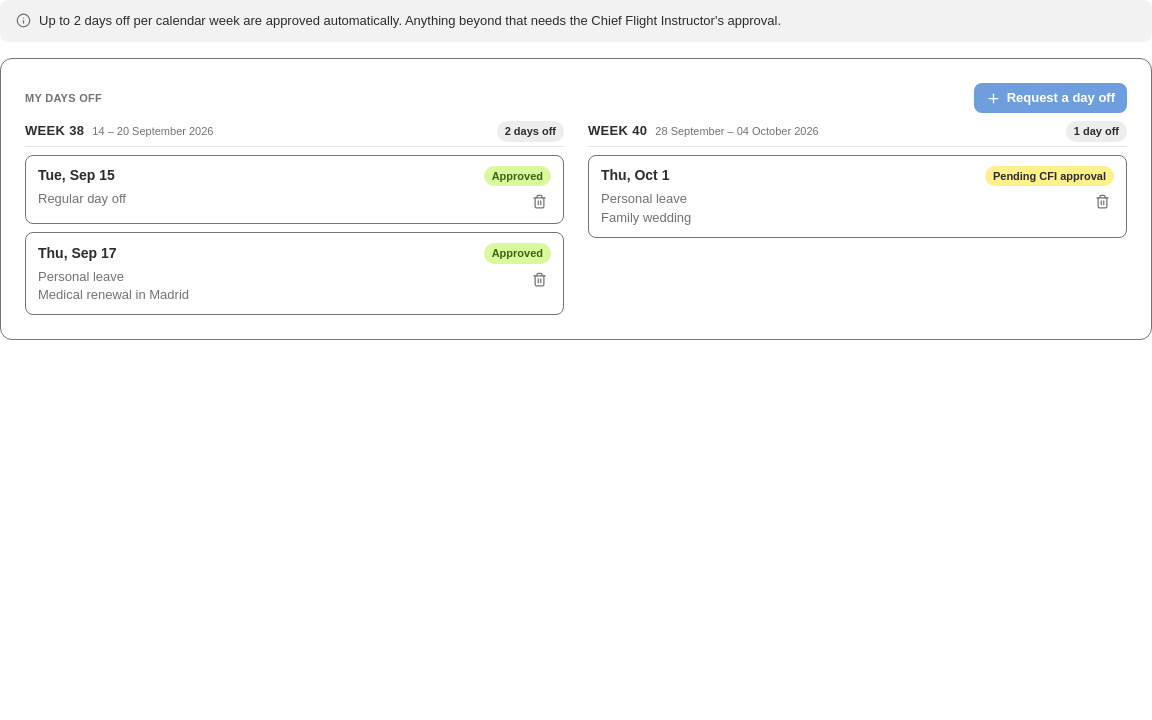
InstructorAvailability › shows an error toast when a cancel request fails
Step 1. Click the button named "Cancel day off on" → click(540, 202), box [528,190,551,213]
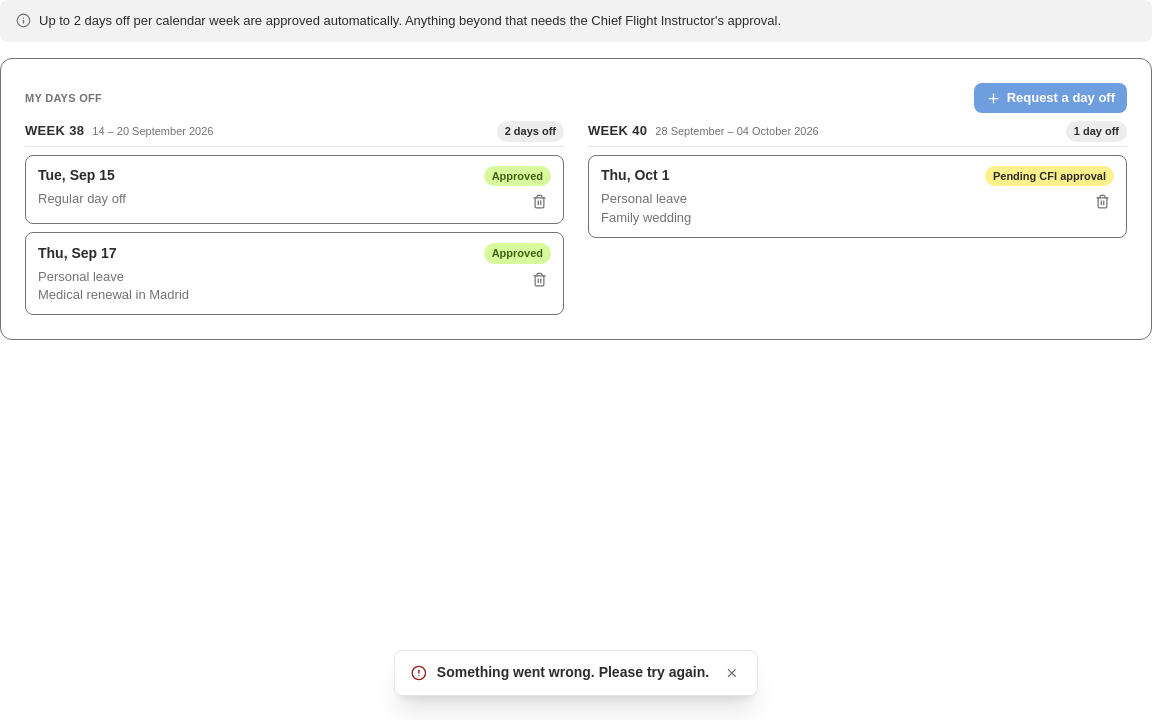
Expected: the text "Medical renewal in Madrid" is shown, [38,286,189,304]
Expected: the text "Something went wrong. Please try again." is shown, [437,663,709,683]
